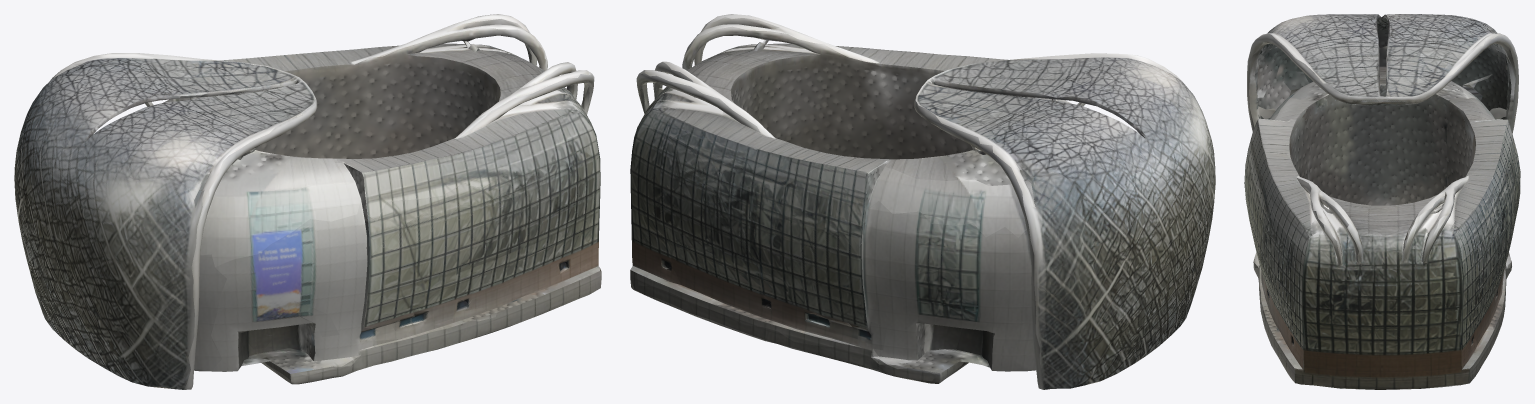
The model's file is sebit_lowpoly.glb.
3 renders of one model, left to right at view 1: azimuth 30°, elevation 25°; view 2: azimuth 150°, elevation 25°; view 3: azimuth 270°, elevation 25°, orthographic. The views are drawn at different scales.
Visible parts, largest first — view 1: world; view 2: world; view 3: world.
Boxes of the visible parts, x1,y1,x2,y2 form: world: (14, 14, 601, 389); world: (630, 14, 1215, 389); world: (1244, 14, 1520, 389).
Bounding box in the file's own units: 0.9993 × 0.4643 × 0.5747.
1 material, 1 textured.
